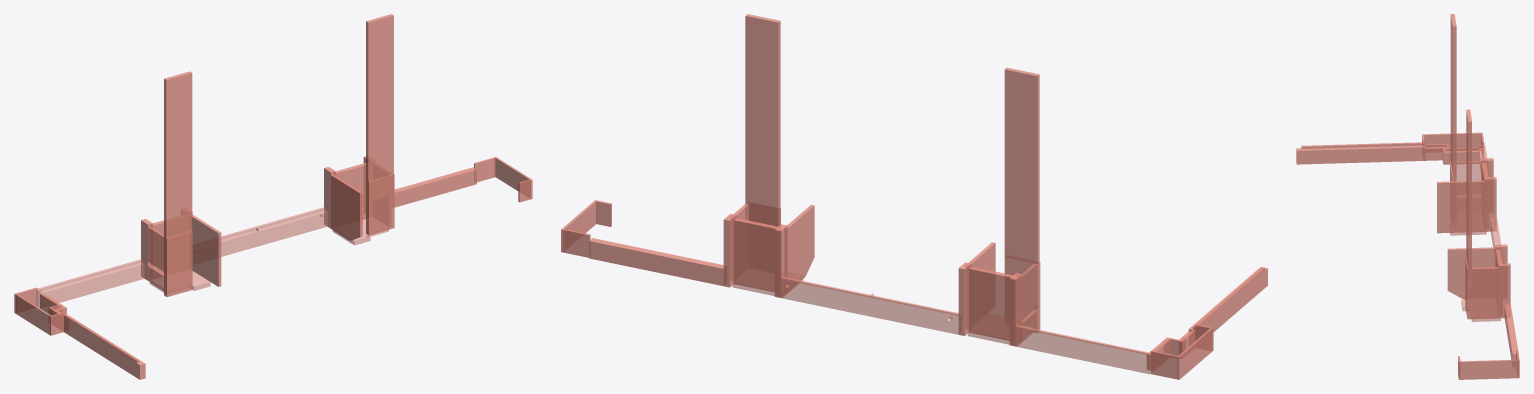
File: zeHGW_structure.glb
3 renders of one model, left to right at view 1: azimuth 30°, elevation 25°; view 2: azimuth 150°, elevation 25°; view 3: azimuth 270°, elevation 25°, orthographic. The views are drawn at different scales.
Parts seen in each view (by area): view 1: world; view 2: world; view 3: world.
Part boxes in pixels (box(x1,y1,x2,y2)): world: box(14, 14, 532, 379); world: box(561, 14, 1267, 379); world: box(1296, 14, 1519, 379).
Size of the model in its own units: 42.03 by 17.22 by 17.28.
